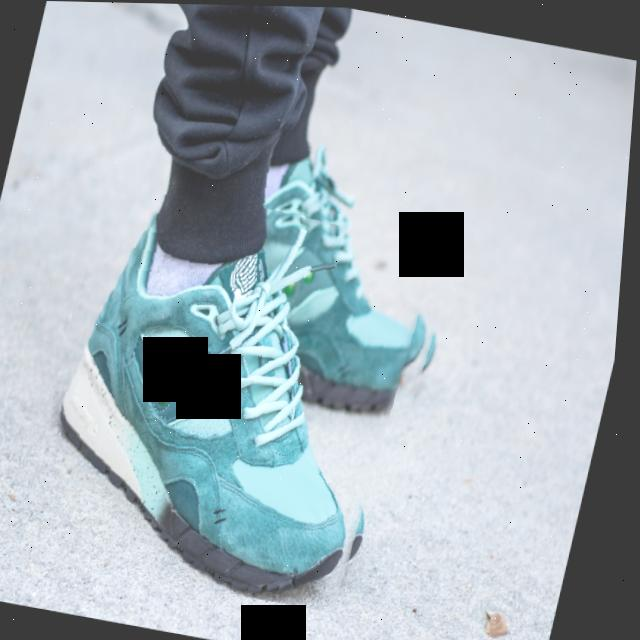shoe: (22, 168, 448, 615), (220, 133, 487, 421)
